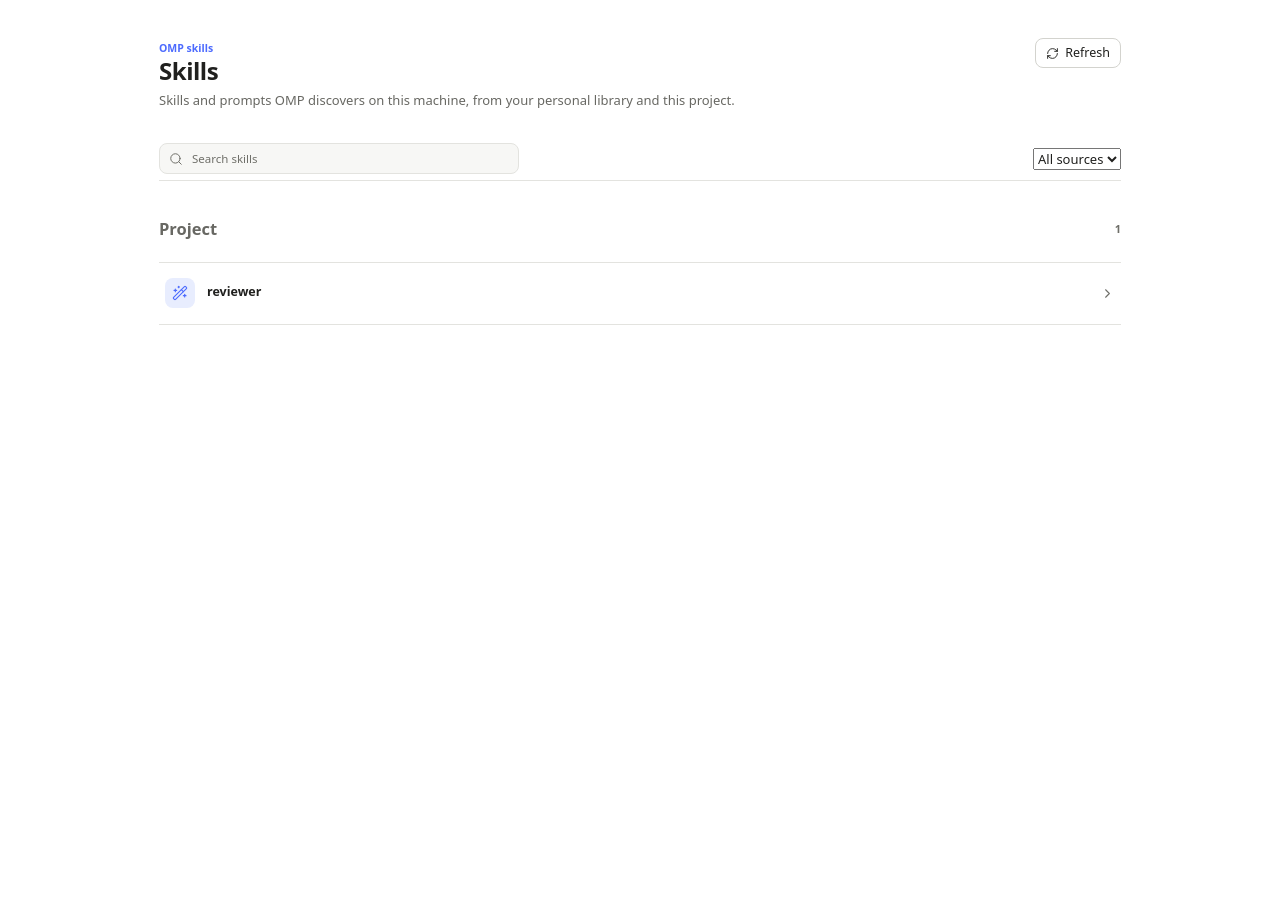
Test: SkillsPage › shows a read error instead of a blank detail when the document cannot be loaded
Step 1. Click the button with class "skill-row" → (234, 292), box 159,263 -> 1121,325
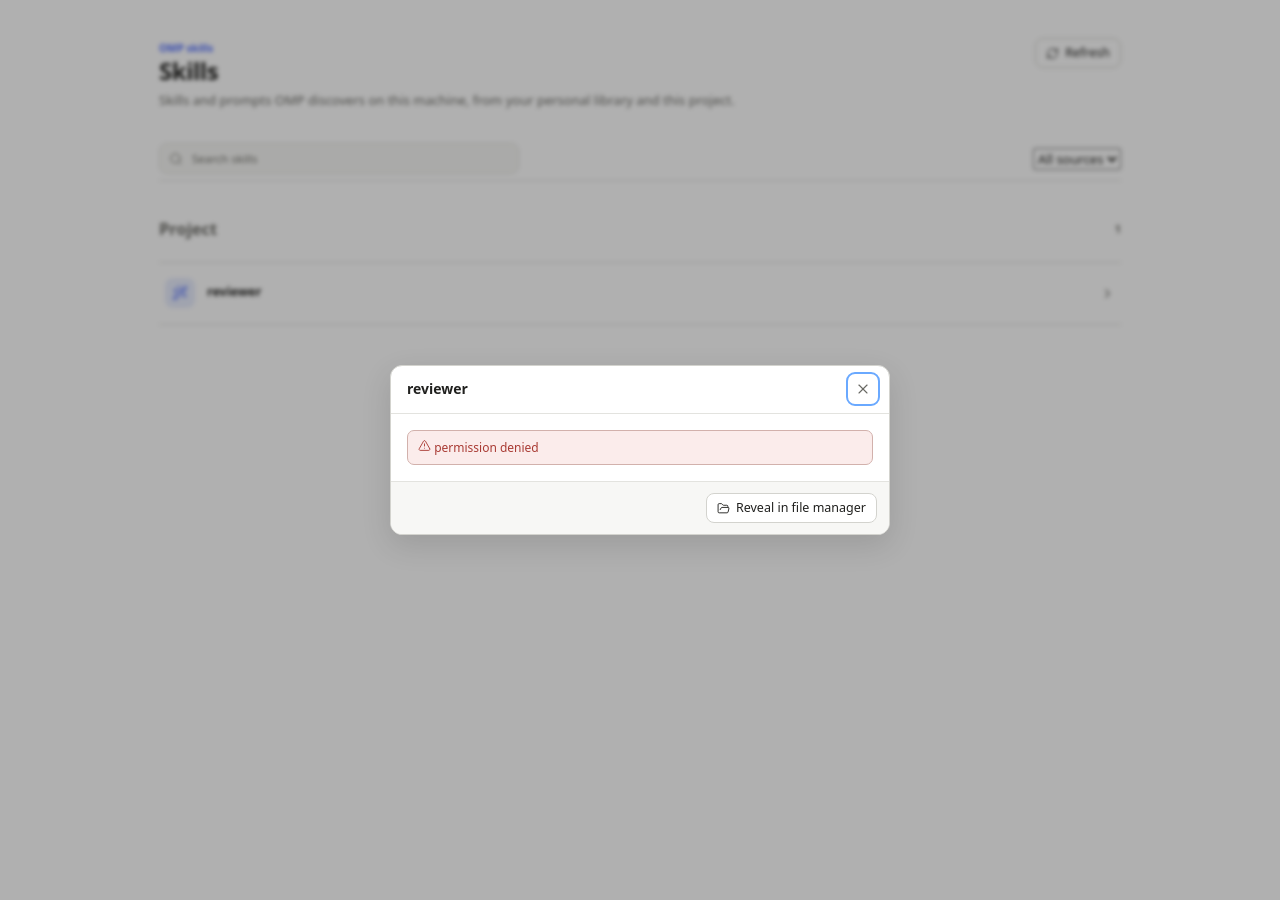
Expected: the text "permission denied" is shown, 407,430 -> 873,465
